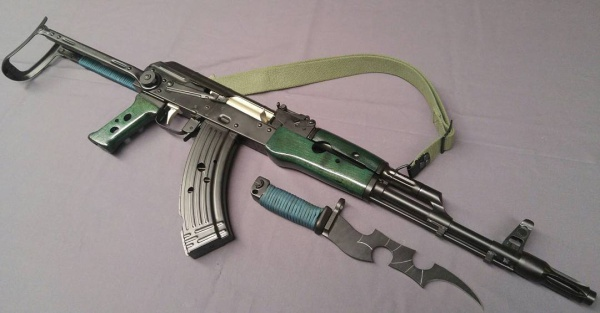ak47: (3, 23, 595, 304)
